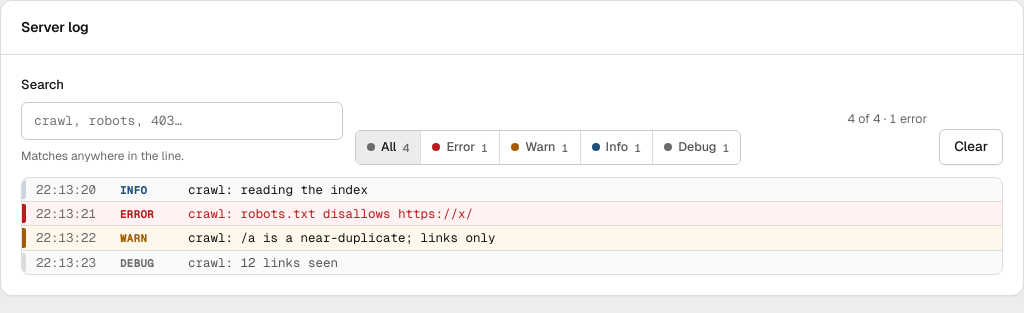
Test: LogsPage › narrows to a level, and shows the count on the filter
Click the button "Error 1" at coordinates (460, 147), box [420,131,499,164]
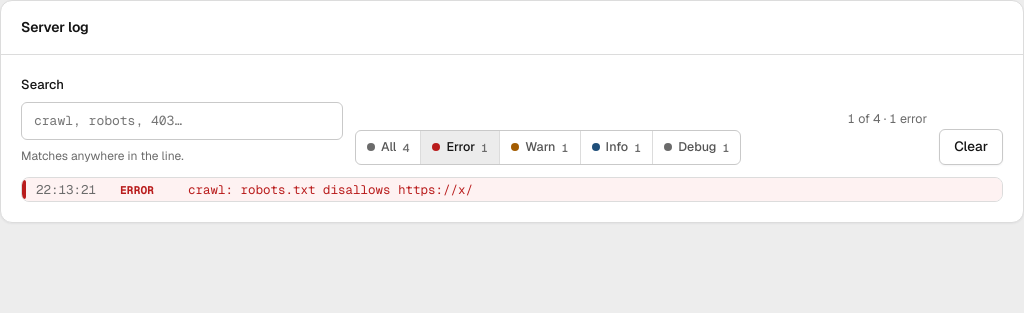
Expected: the text "crawl: robots.txt disallows https://x/" is shown, [188,180,473,198]
Now the text "reading the index" is gone
Now the text "near-duplicate" is gone
